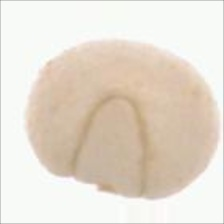L5: (70, 92, 148, 199), (89, 36, 184, 66)
L6: (21, 33, 224, 205)
